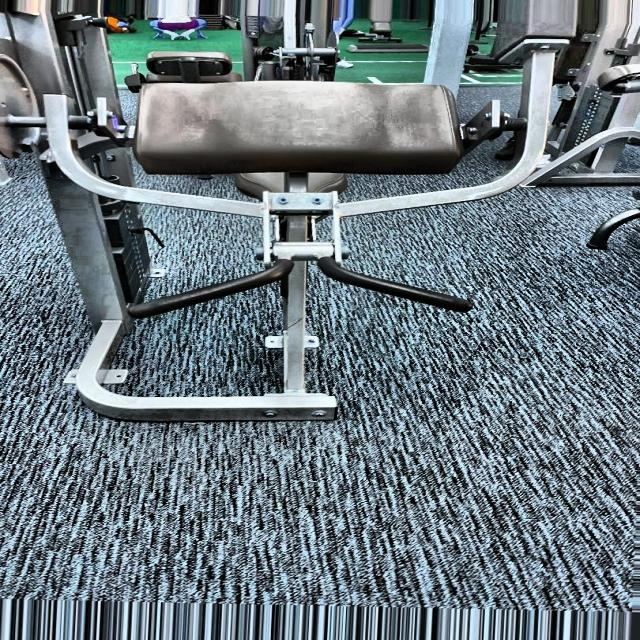bicep_curl_machine: (50, 52, 614, 459)
